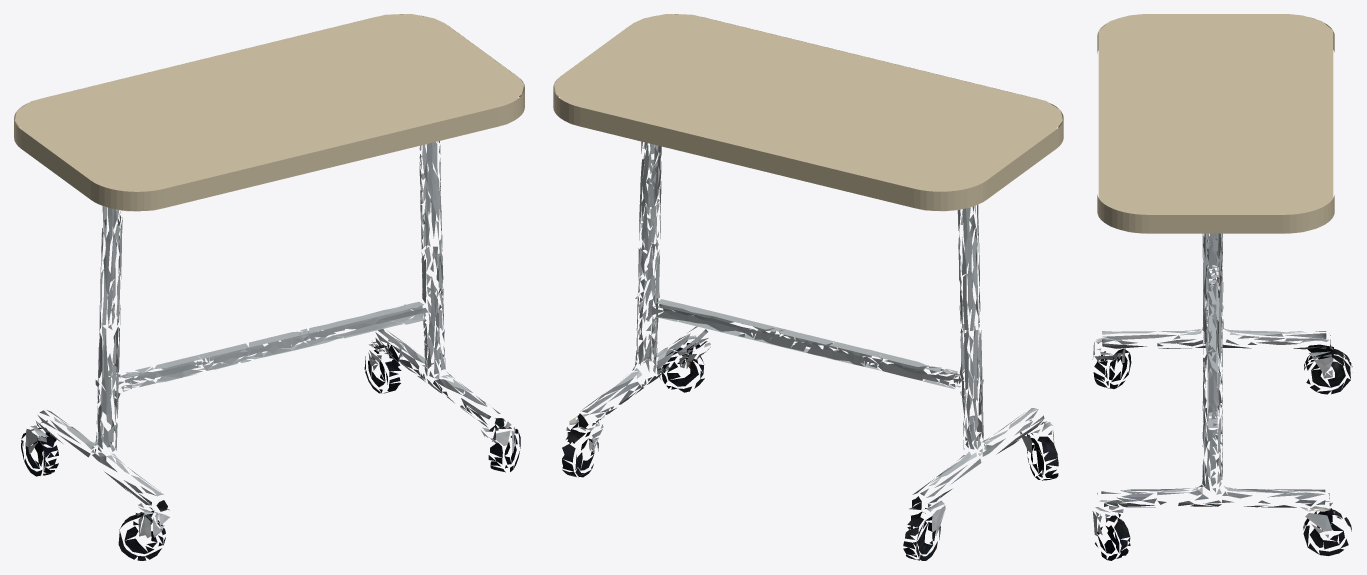
3 renders of one model, left to right at view 1: azimuth 30°, elevation 25°; view 2: azimuth 150°, elevation 25°; view 3: azimuth 270°, elevation 25°, orthographic. The views are drawn at different scales.
Parts seen in each view (by area): view 1: Rounded flat tabletop, geometry_0; view 2: Rounded flat tabletop, geometry_0; view 3: Rounded flat tabletop, geometry_0.
Part boxes in pixels (x1,y1,x2,y2): Rounded flat tabletop: (14, 14, 524, 211); geometry_0: (21, 141, 520, 560); Rounded flat tabletop: (553, 14, 1063, 211); geometry_0: (562, 141, 1058, 560); Rounded flat tabletop: (1097, 14, 1334, 233); geometry_0: (1092, 233, 1352, 560).
Bounding box in the file's own units: 1.2 × 1 × 0.6571.
3 materials, 1 textured.
